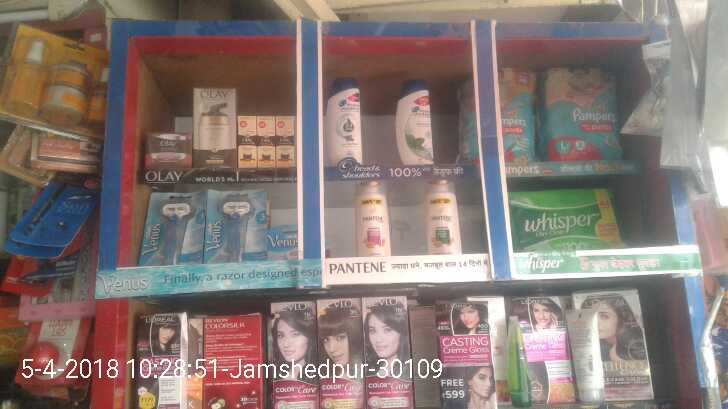venus: (138, 191, 206, 265), (206, 191, 269, 263), (269, 223, 299, 263)
